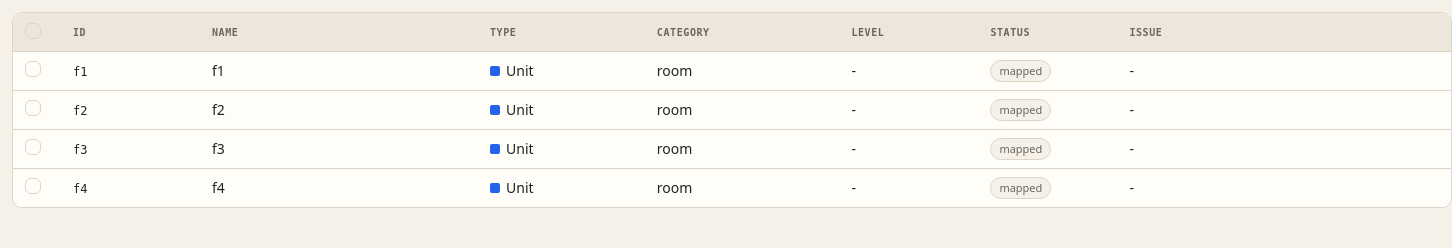
shift-click selects checkbox ranges
Click the checkbox named "f1": (33, 69) left=25, top=61, right=41, bottom=77
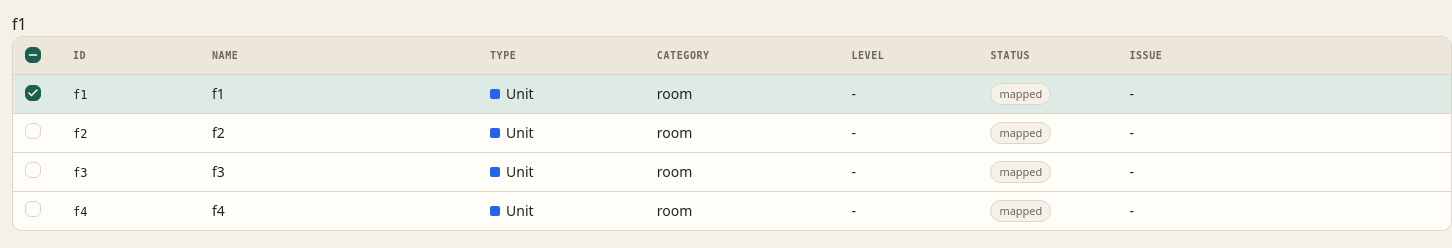
Click the checkbox named "f3": (33, 170) left=25, top=162, right=41, bottom=178
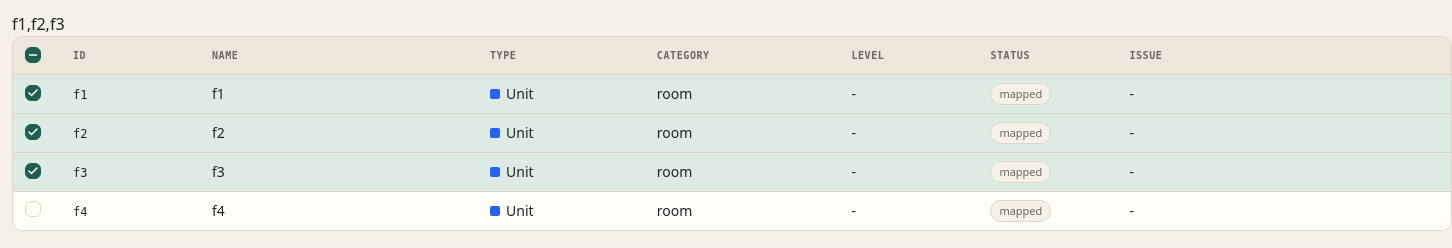
Now the text with test id "selected" reads "f1,f2,f3", box left=12, top=13, right=64, bottom=35
